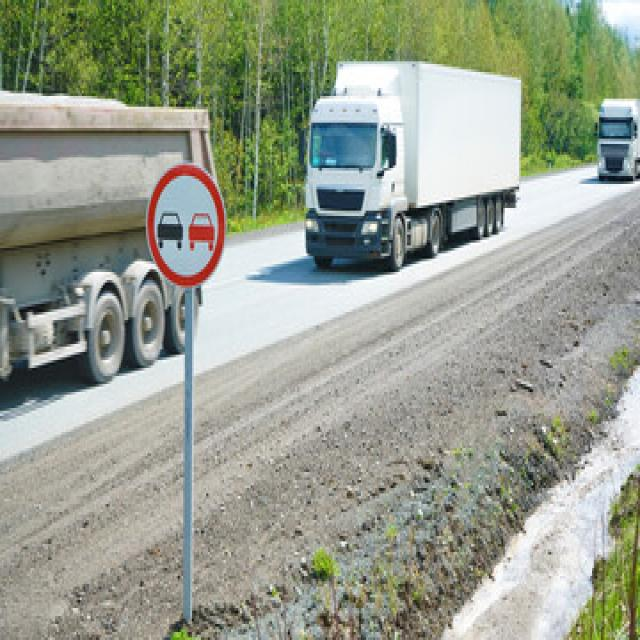no overtaking: (143, 160, 230, 293)
